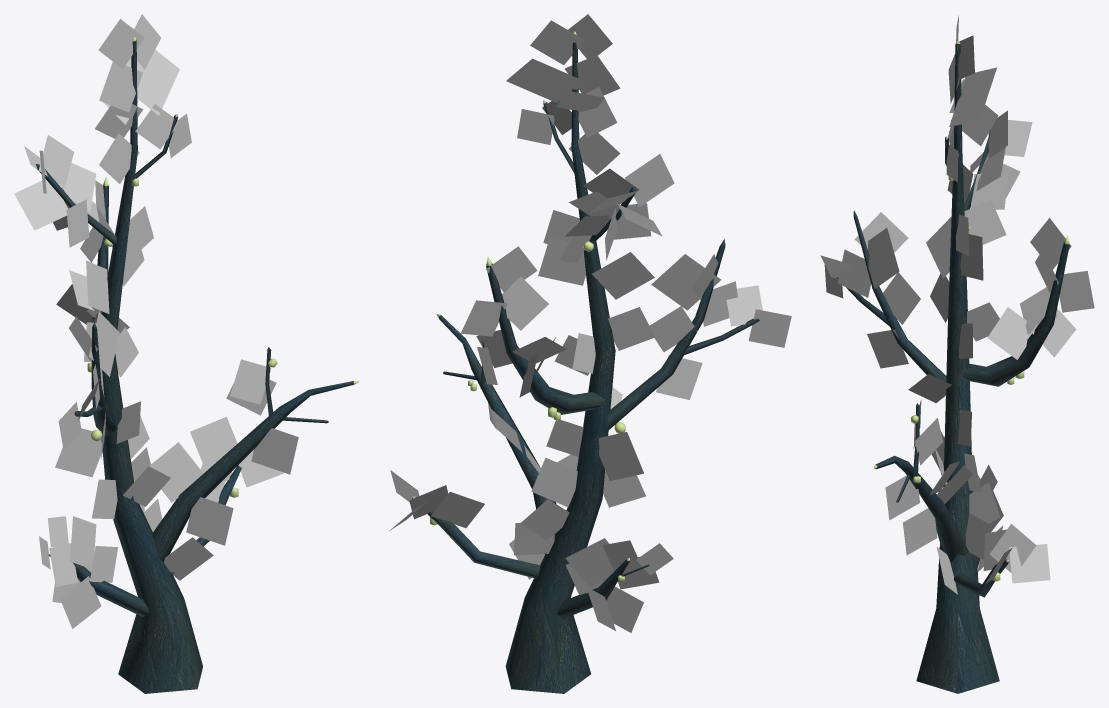
Rendered from Veg_Tree_05_Art.fbx.
The picture shows the model from 3 angles, left to right: view 1: azimuth 30°, elevation 25°; view 2: azimuth 150°, elevation 25°; view 3: azimuth 270°, elevation 25°; orthographic projection. The views are drawn at different scales.
Visible parts, largest first — view 1: Veg_Tree_05; view 2: Veg_Tree_05; view 3: Veg_Tree_05.
Boxes of the visible parts, box(x1,y1,x2,y2) form: Veg_Tree_05: box(14, 14, 359, 693); Veg_Tree_05: box(389, 14, 791, 693); Veg_Tree_05: box(820, 15, 1094, 693).
Size of what is drawn, in the model's own units: 776 by 1515 by 587.
